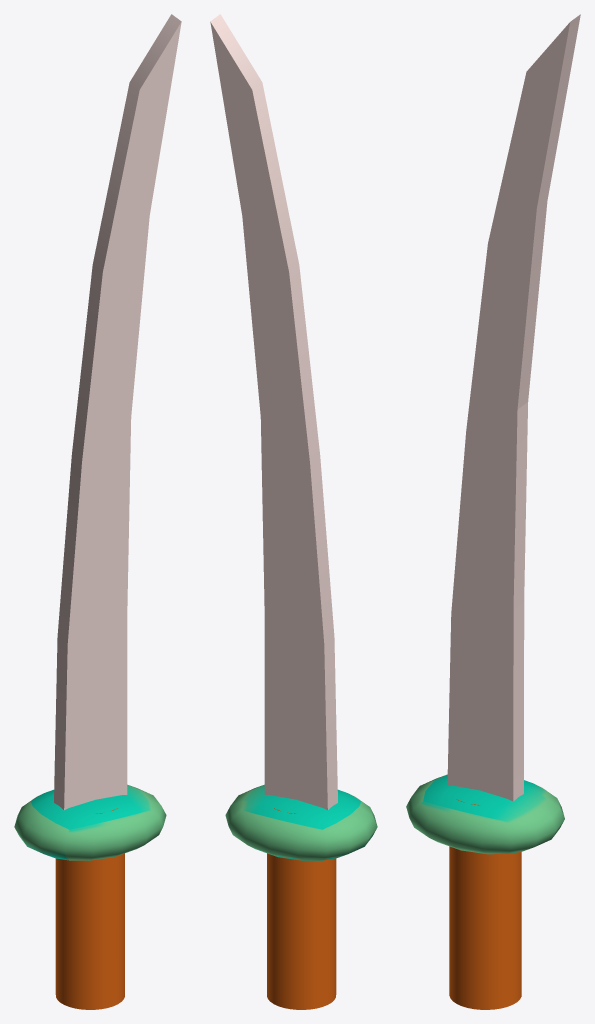
The model's file is katana.fbx.
3 renders of one model, left to right at view 1: azimuth 30°, elevation 25°; view 2: azimuth 150°, elevation 25°; view 3: azimuth 330°, elevation 25°, orthographic. The views are drawn at different scales.
Visible parts, largest first — view 1: Cylinder; view 2: Cylinder; view 3: Cylinder.
Boxes of the visible parts, x1,y1,x2,y2 form: Cylinder: (14, 14, 181, 1009); Cylinder: (210, 14, 377, 1009); Cylinder: (406, 14, 580, 1009).
Bounding box in the file's own units: 52.54 × 312 × 38.53.
1 material, 1 textured.
